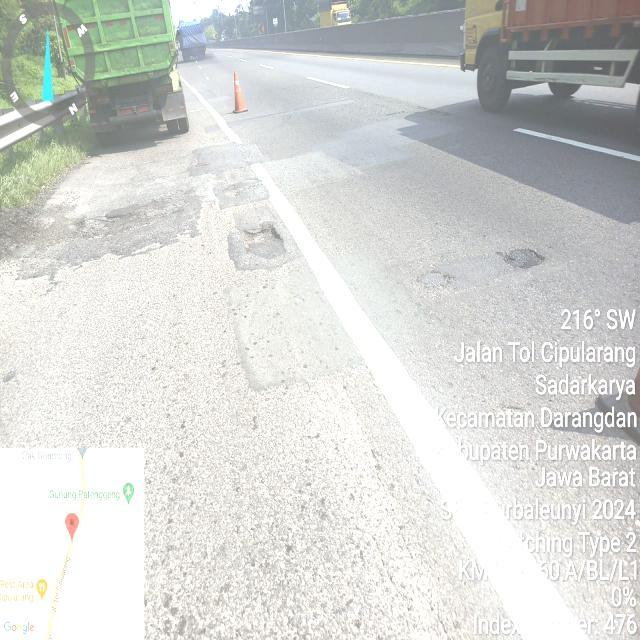Buraco: (237, 223, 284, 255), (494, 247, 548, 271)
